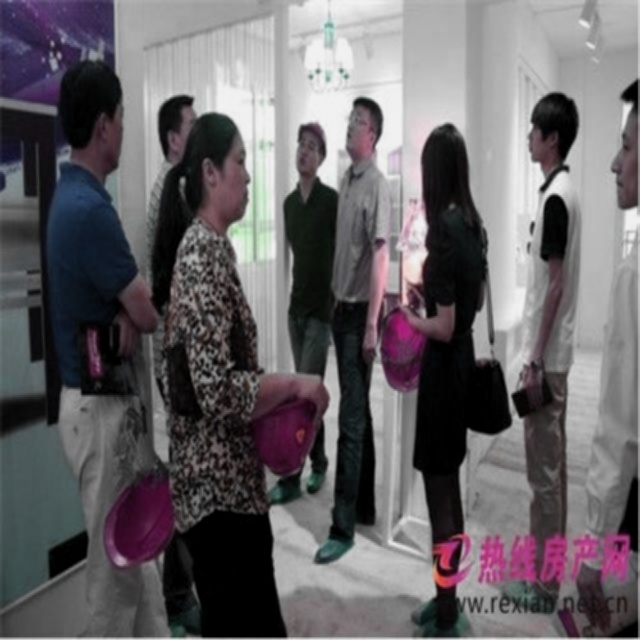Sin_Casco_Mascarrilla: (60, 60, 125, 172), (524, 90, 580, 170)
